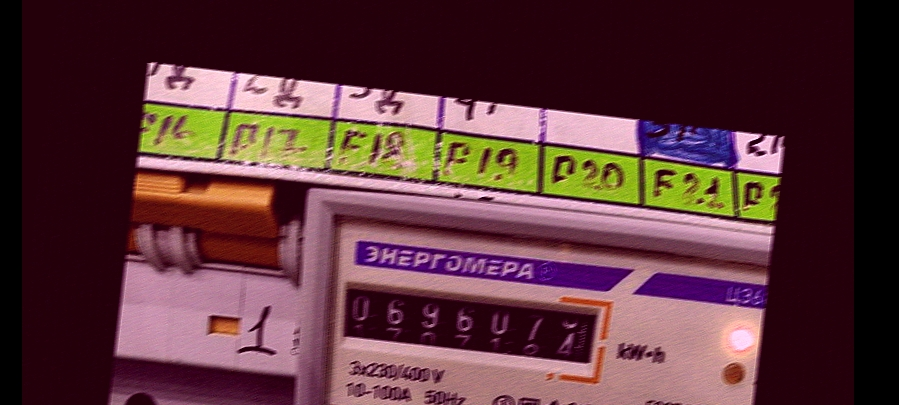0: (348, 292, 371, 324), (488, 306, 511, 338)
4: (553, 330, 575, 360)
6: (382, 295, 407, 328), (454, 304, 476, 334)
7: (523, 311, 543, 343)
9: (419, 301, 440, 332)
screen: (320, 263, 614, 385)
